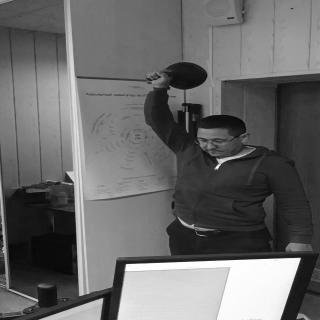kettlebell: (146, 62, 215, 91)
